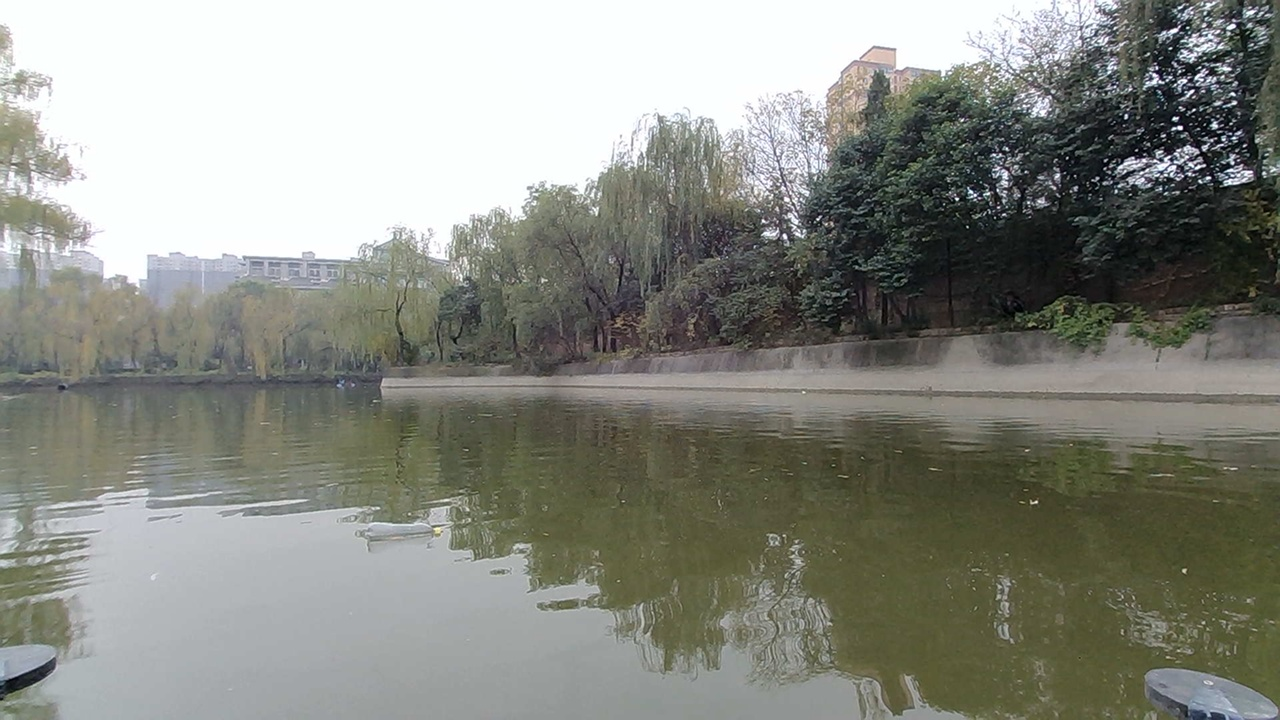bottle: (351, 502, 448, 560)
